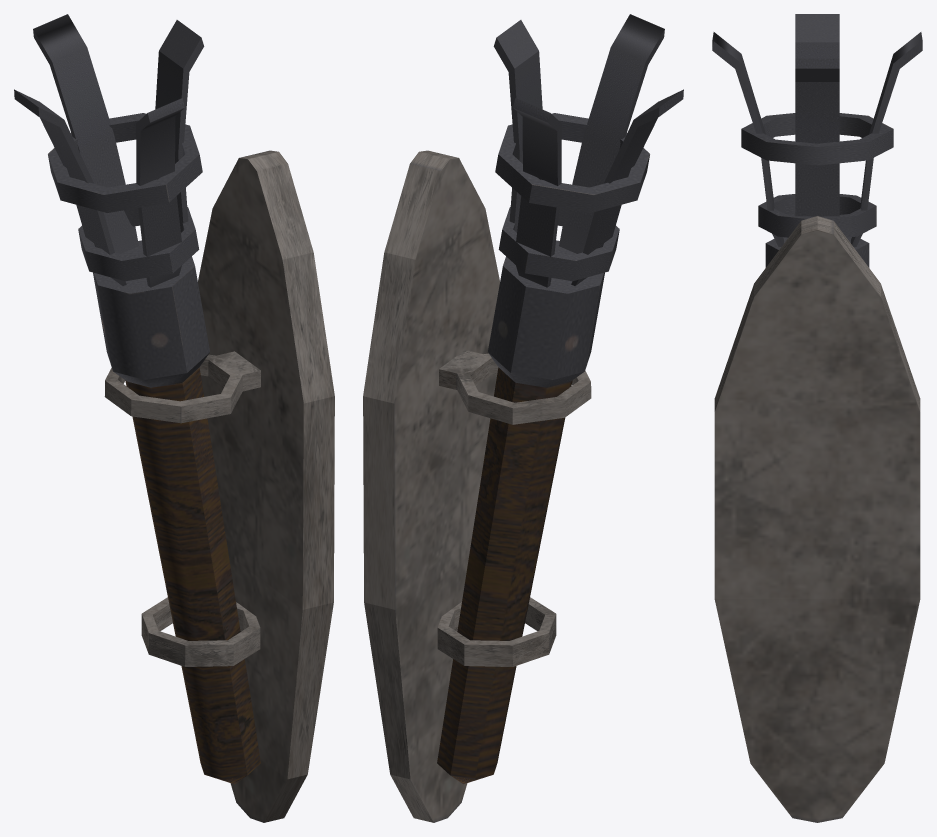
The model's file is tourch_textured.fbx.
3 renders of one model, left to right at view 1: azimuth 30°, elevation 25°; view 2: azimuth 150°, elevation 25°; view 3: azimuth 270°, elevation 25°, orthographic. The views are drawn at different scales.
Visible parts, largest first — view 1: Cube.004; view 2: Cube.004; view 3: Cube.004.
Boxes of the visible parts, left/top/right/bottom form: Cube.004: left=14, top=14, right=334, bottom=822; Cube.004: left=363, top=14, right=683, bottom=822; Cube.004: left=712, top=14, right=922, bottom=822.
Size of the model in its own units: 36.96 by 112 by 29.44.
Materials: 1 (1 with a texture image).
